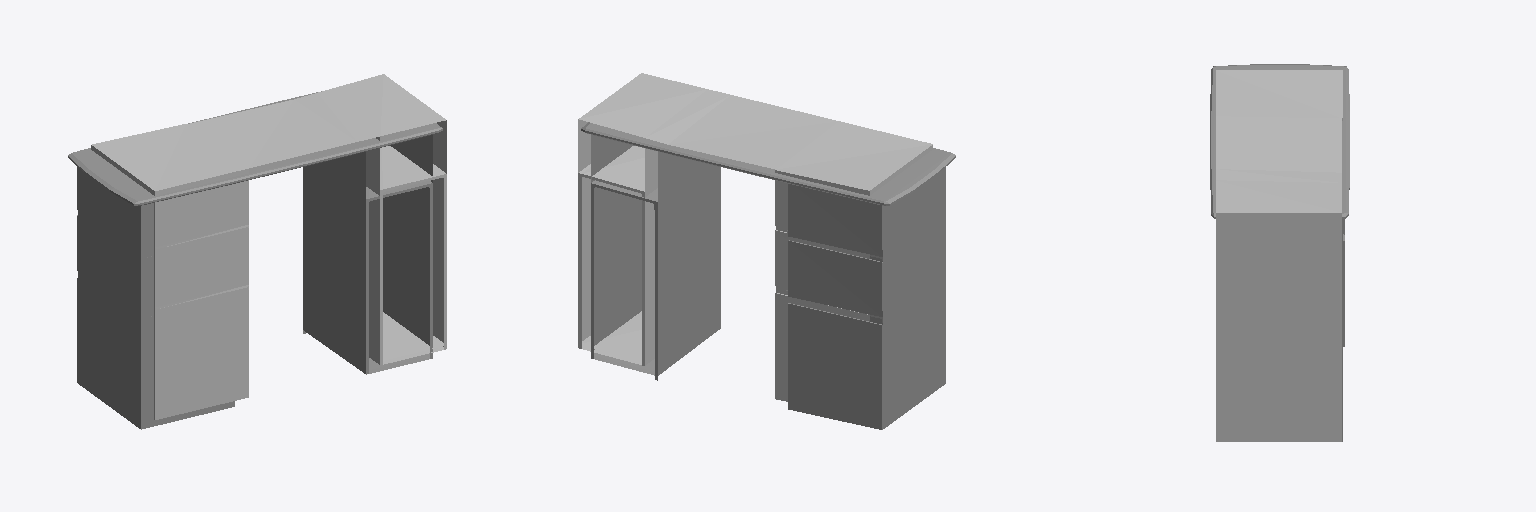
File: desk.obj
3 views of the same model, side by side, from view 1: azimuth 30°, elevation 25°; view 2: azimuth 150°, elevation 25°; view 3: azimuth 270°, elevation 25° (orthographic).
Visible parts, largest first — view 1: Cube.001_Cube.002, Cube_Cube.001, TableTop_Cube; view 2: Cube_Cube.001, Cube.001_Cube.002, TableTop_Cube; view 3: Cube.001_Cube.002, TableTop_Cube.
Boxes of the visible parts, x1,y1,x2,y2 form: Cube.001_Cube.002: [91, 74, 446, 419]; Cube_Cube.001: [77, 135, 432, 429]; TableTop_Cube: [68, 91, 442, 205]; Cube_Cube.001: [591, 135, 945, 429]; Cube.001_Cube.002: [578, 73, 932, 401]; TableTop_Cube: [581, 122, 955, 205]; Cube.001_Cube.002: [1216, 70, 1342, 441]; TableTop_Cube: [1210, 64, 1349, 218].
Bounding box in the file's own units: 261 × 190 × 100.